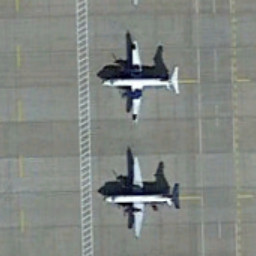Airplane: (96, 150, 189, 246), (91, 35, 183, 130)
